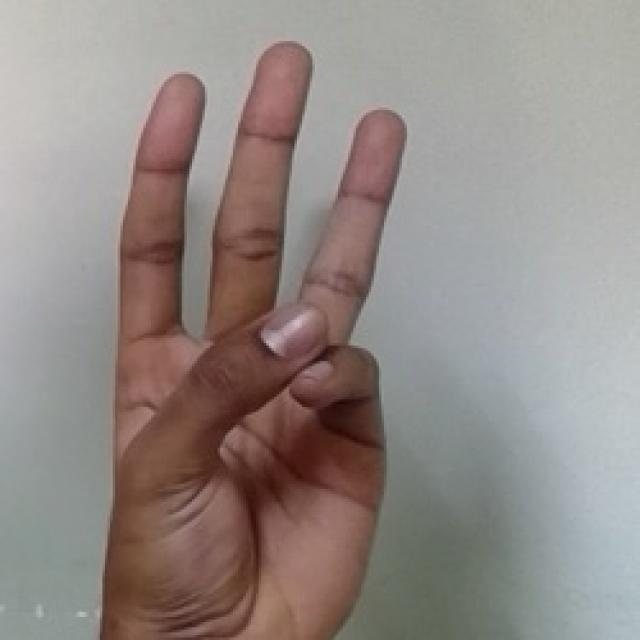Numeric-6: (105, 35, 421, 638)
